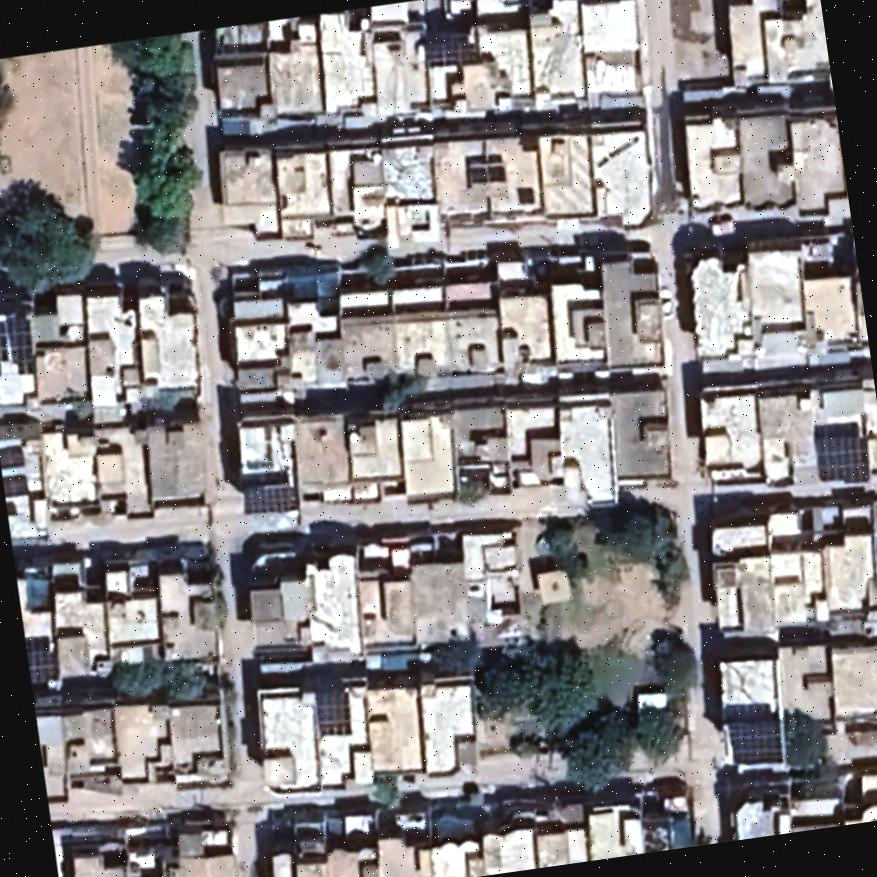Solarpanel: (810, 427, 873, 486), (722, 715, 789, 766), (0, 312, 33, 384), (312, 685, 355, 735), (417, 37, 482, 70), (243, 483, 304, 513), (25, 639, 57, 685)
